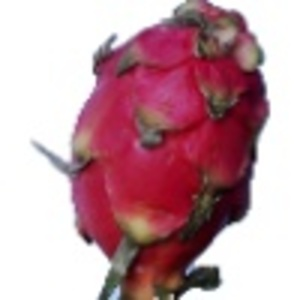pitaia: (35, 1, 272, 300)
